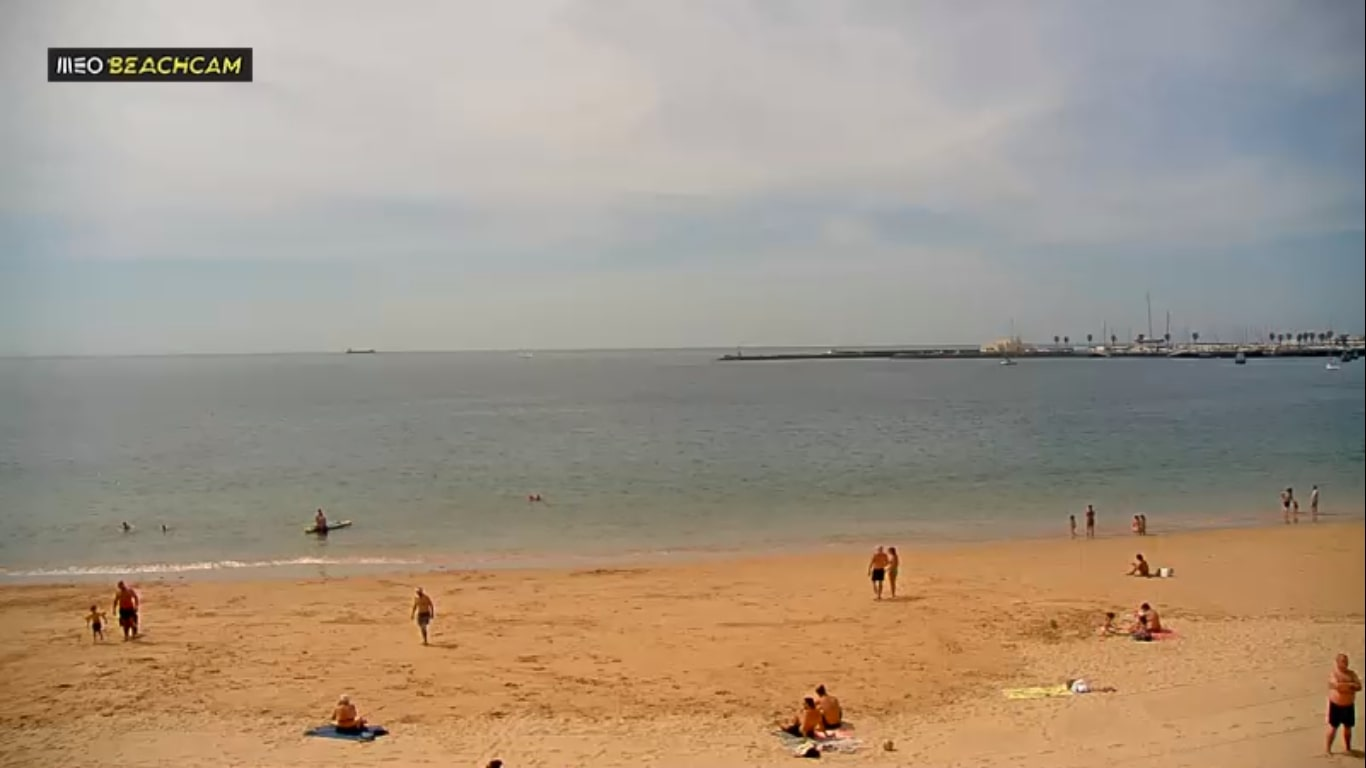person: (1322, 650, 1361, 755), (781, 689, 826, 738), (820, 687, 850, 752), (112, 581, 141, 645), (333, 693, 366, 740), (410, 585, 435, 646), (867, 543, 885, 600), (1137, 601, 1161, 641), (84, 601, 106, 644), (887, 544, 900, 600), (1129, 552, 1150, 577), (314, 508, 328, 536), (1104, 610, 1118, 636), (1085, 503, 1095, 538), (1280, 488, 1293, 511), (1310, 485, 1318, 513), (1069, 514, 1079, 535), (1132, 513, 1140, 536), (1140, 513, 1146, 536)
